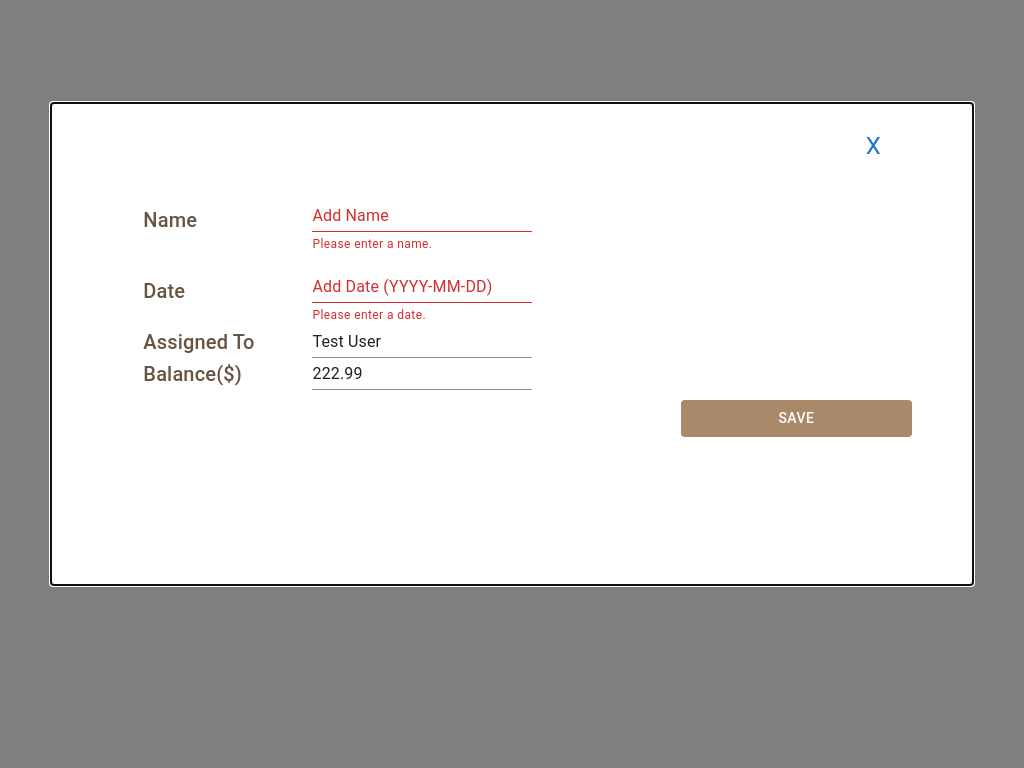
Scenario: Testing <ExpensesOverlay /> Component › should change have assigned error
Clear the field with id "expenses-overlay-assigned-field" at (422, 342), box [312,326,532,358]
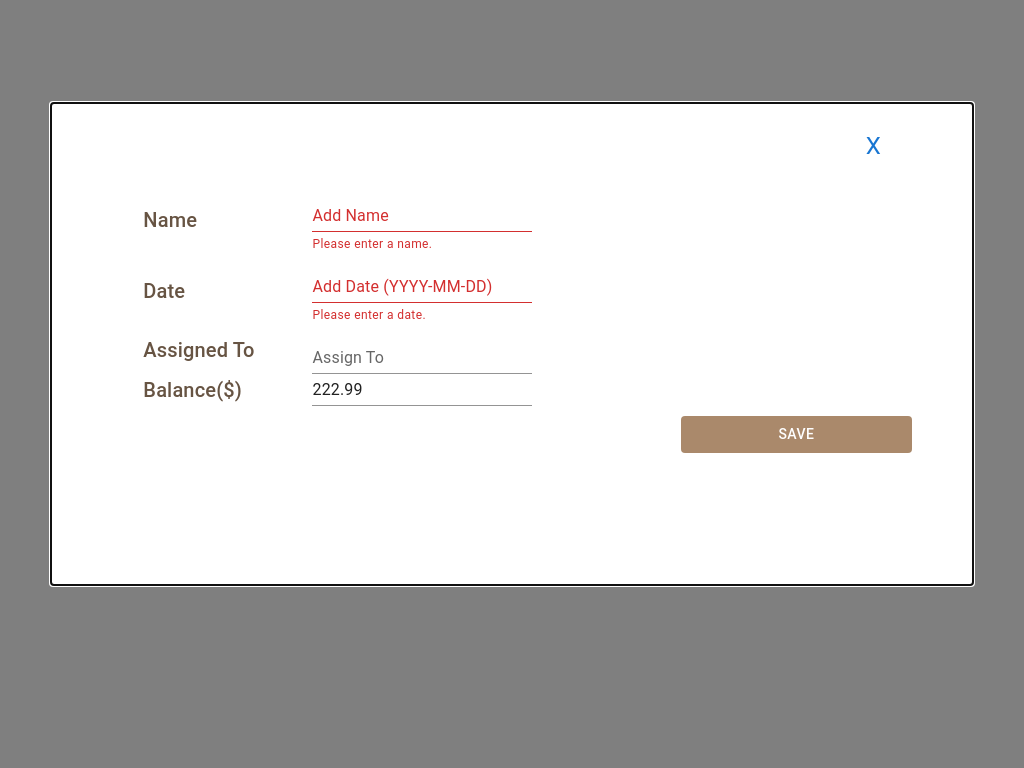
Click the button with id "expense-overlay-save-button" at (796, 434), box [681,416,912,453]
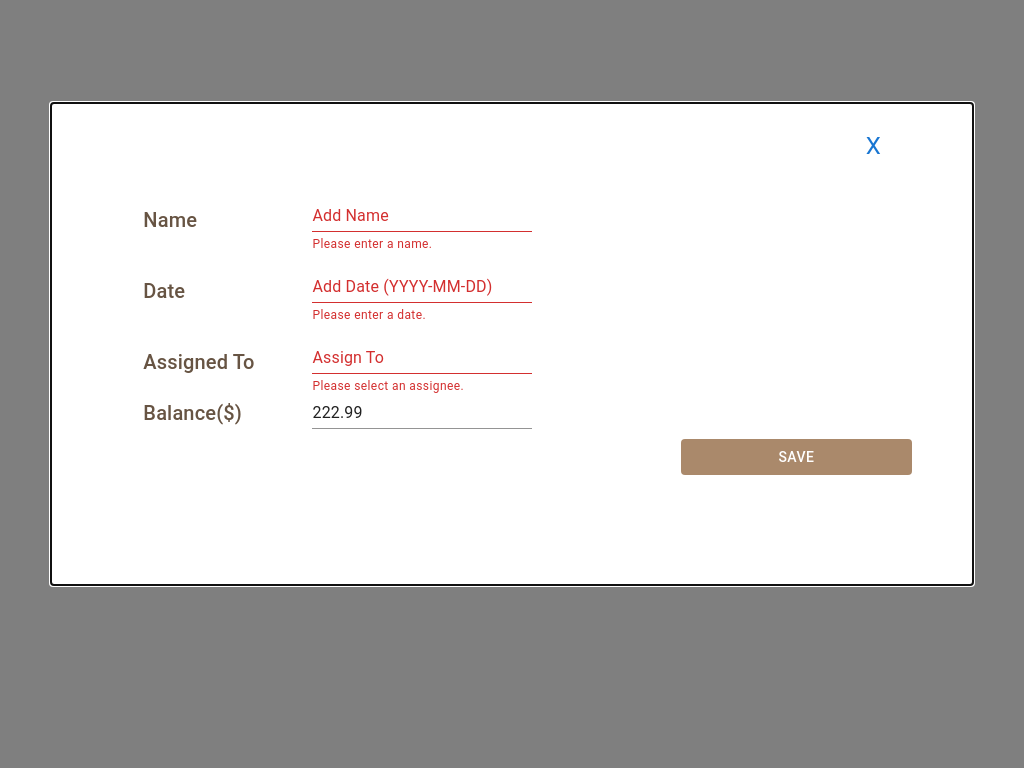
Now the text with id "expenses-overlay-assigned-field-helper-text" reads "Please select an assignee.", box [312,379,464,393]
